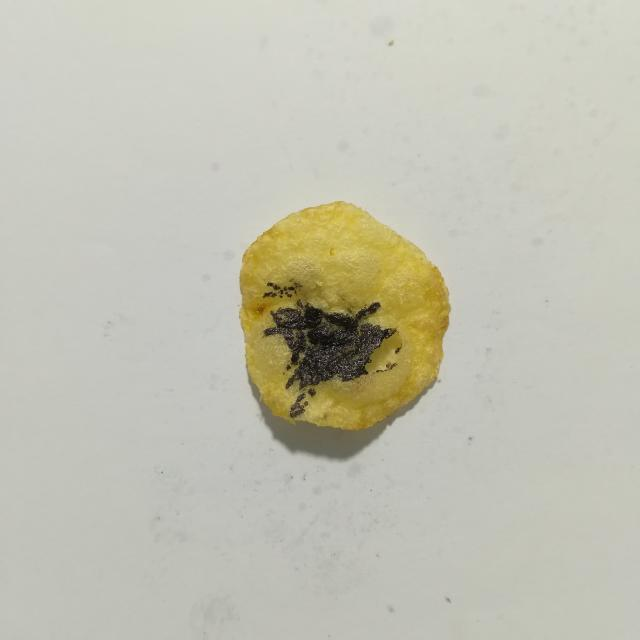chip: (239, 202, 450, 429)
damaged: (263, 300, 395, 390), (263, 282, 296, 298), (289, 393, 308, 418), (375, 363, 397, 372), (395, 343, 402, 354), (308, 388, 316, 396)
